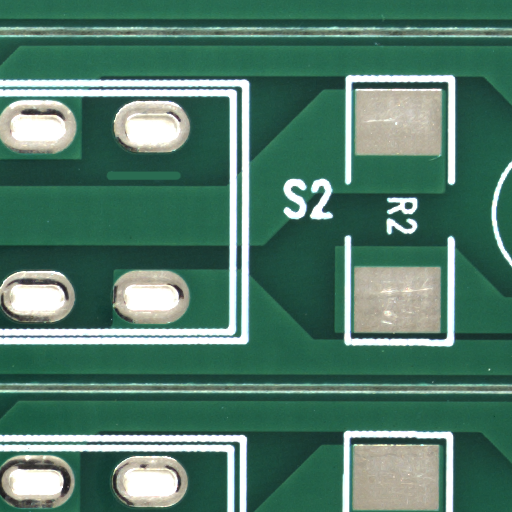Spurious_copper: (143, 174, 217, 188)
